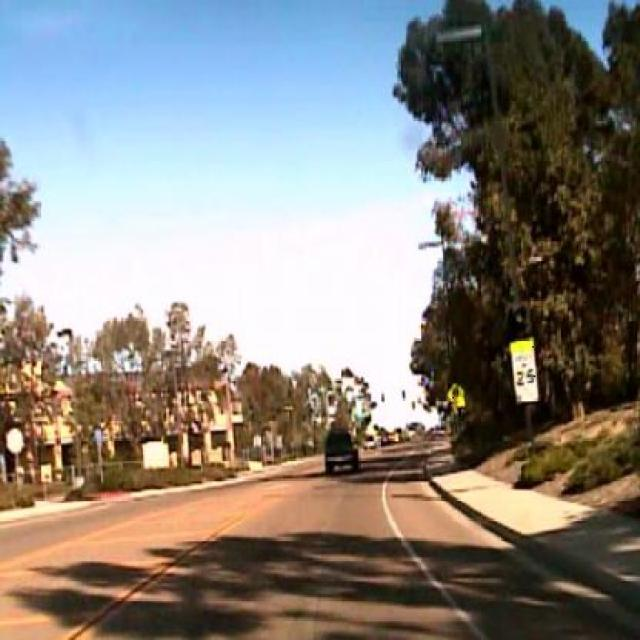school: (449, 385, 465, 403)
schoolSpeedLimit25: (509, 337, 538, 403)
